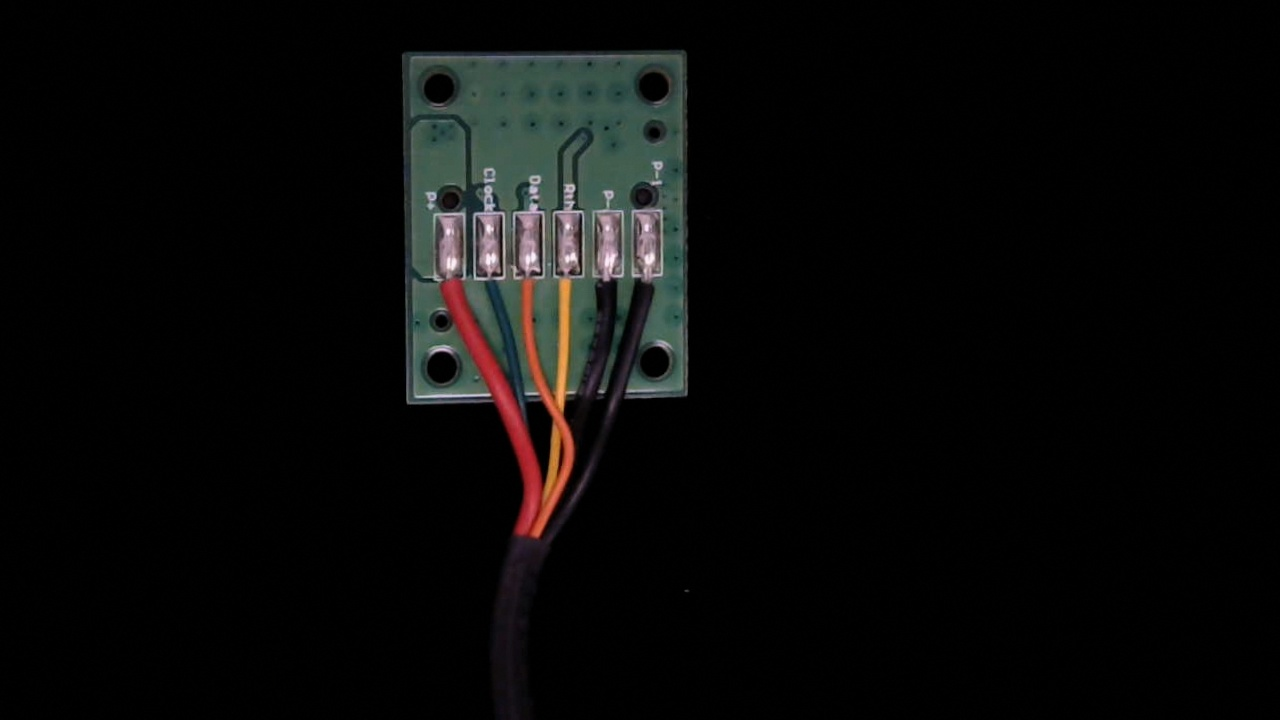Black: (587, 263, 626, 330)
Black1: (631, 260, 666, 330)
Green: (474, 261, 505, 323)
Orange: (512, 263, 545, 327)
Red: (432, 264, 467, 325)
Yellow: (551, 262, 584, 331)
